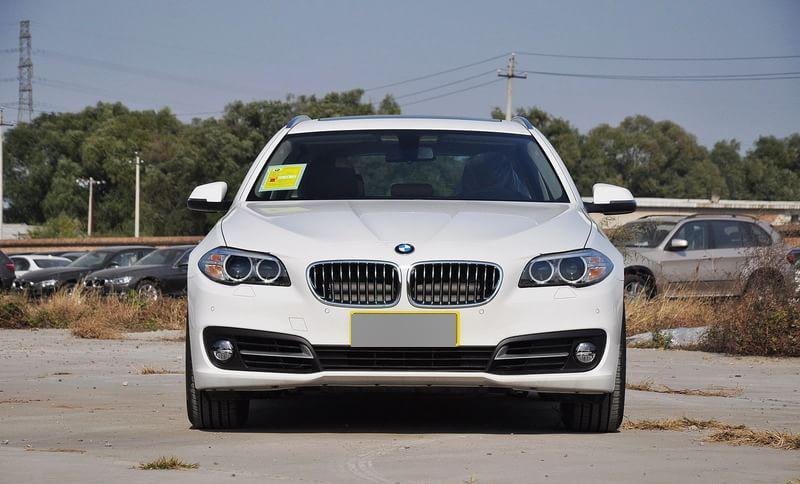Wagon: (183, 114, 639, 434)
